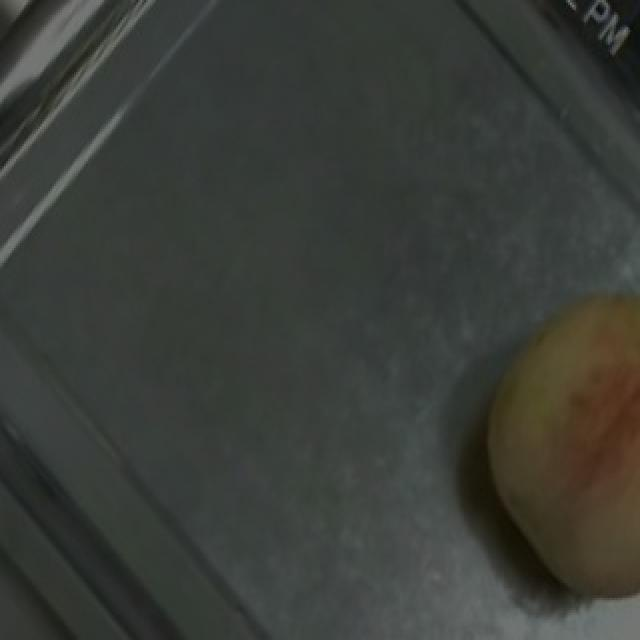Fruit: (446, 253, 640, 623)
